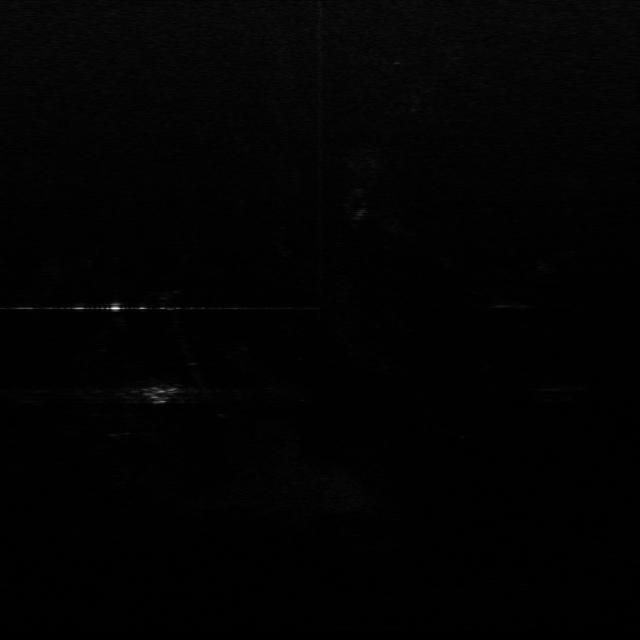rov: (141, 385, 183, 407)
